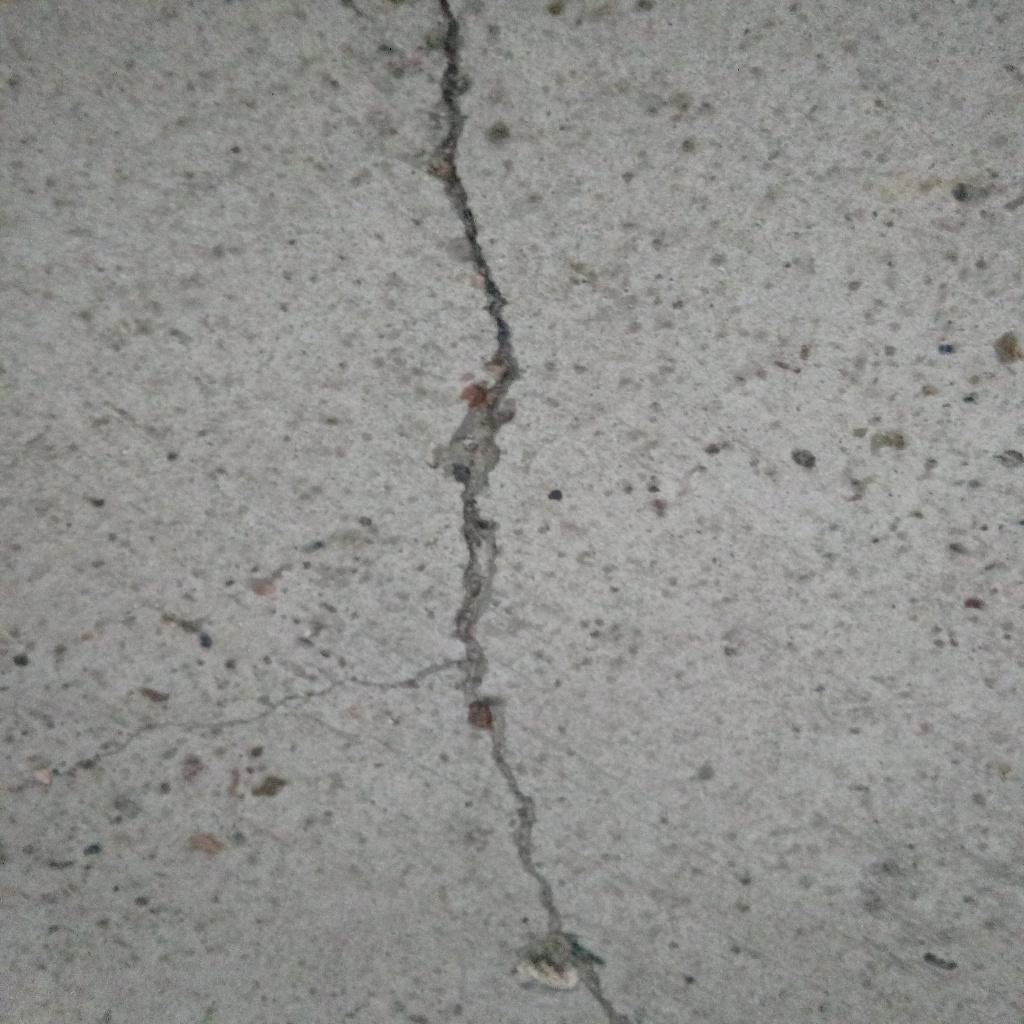Crack: (430, 1, 631, 1024), (6, 658, 464, 798)
